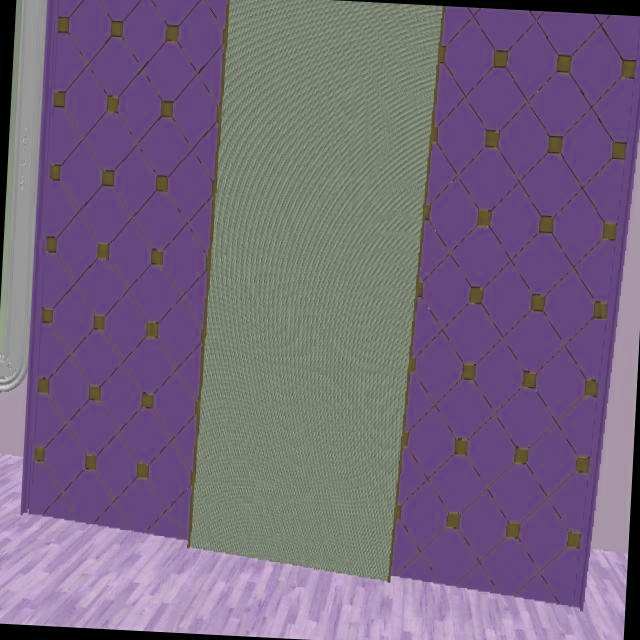wardrobe: (0, 0, 640, 610)
